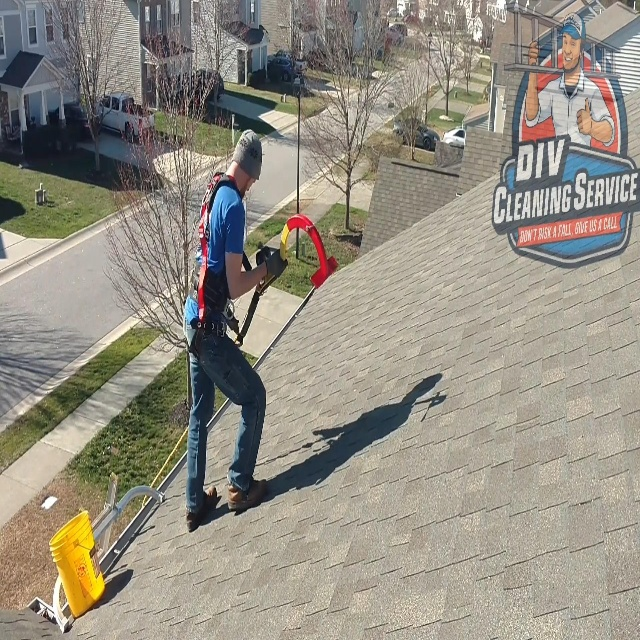Arnes_seguridad: (179, 164, 243, 359)
